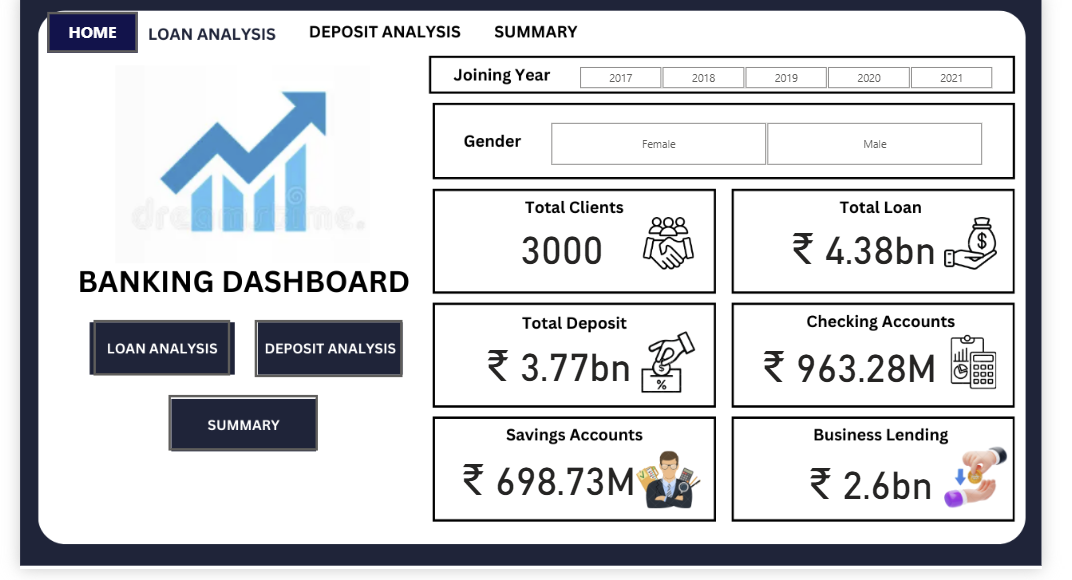

What the dashboard file says about the page in this screenshot:
{"tool":"powerbi","page":{"name":"Home","canvas":[1280,720],"ordinal":0},"visuals":[{"type":"card","fields":{"Values":["CountNonNull(Table1.Name)"]},"box":[549.7,270.9,256.9,89.6],"z":0},{"type":"slicer","fields":{"Values":["Table1.GenderId"]},"box":[640.6,153.1,589.6,66.1],"z":1000},{"type":"actionButton","title":"HOME","box":[34,22.7,113.4,51],"z":2000},{"type":"card","fields":{"Values":["Table1.Total Deposits"]},"box":[571.6,408.3,205.1,107.6],"z":3000},{"type":"card","fields":{"Values":["Sum(Table1.Business Lending)"]},"box":[946.1,555.7,239,107.6],"z":4000},{"type":"card","fields":{"Values":["Table1.Total Loans"]},"box":[946.1,270.9,221.1,89.6],"z":5000},{"type":"card","fields":{"Values":["Sum(Table1.Saving Accounts)"]},"box":[531.8,555.7,258.9,97.6],"z":6000},{"type":"card","fields":{"Values":["Sum(Table1.Checking Accounts)"]},"box":[910.2,408.3,256.9,109.5],"z":7000},{"type":"slicer","fields":{"Values":["Table1.Joining Year"]},"box":[676,84.3,566.3,35],"z":8000},{"type":"actionButton","title":"HOME","box":[294.8,408.3,185.2,71.7],"z":8001},{"type":"actionButton","title":"HOME","box":[185.2,501.9,187.2,69.7],"z":8002},{"type":"actionButton","title":"HOME","box":[91.6,408.3,171.3,69.7],"z":8003}]}

Visuals, with their boxes on the page's 1280x720 design canvas (x1, y1, x2, y2). These are canvas units, not pixel positions in the 1072x580 screenshot, which may show the page scaled, cropped or inside an application window:
card - CountNonNull(Table1.Name): detection(550, 271, 807, 360)
slicer - Table1.GenderId: detection(641, 153, 1230, 219)
"HOME" actionButton: detection(34, 23, 147, 74)
card - Table1.Total Deposits: detection(572, 408, 777, 516)
card - Sum(Table1.Business Lending): detection(946, 556, 1185, 663)
card - Table1.Total Loans: detection(946, 271, 1167, 360)
card - Sum(Table1.Saving Accounts): detection(532, 556, 791, 653)
card - Sum(Table1.Checking Accounts): detection(910, 408, 1167, 518)
slicer - Table1.Joining Year: detection(676, 84, 1242, 119)
"HOME" actionButton: detection(295, 408, 480, 480)
"HOME" actionButton: detection(185, 502, 372, 572)
"HOME" actionButton: detection(92, 408, 263, 478)
